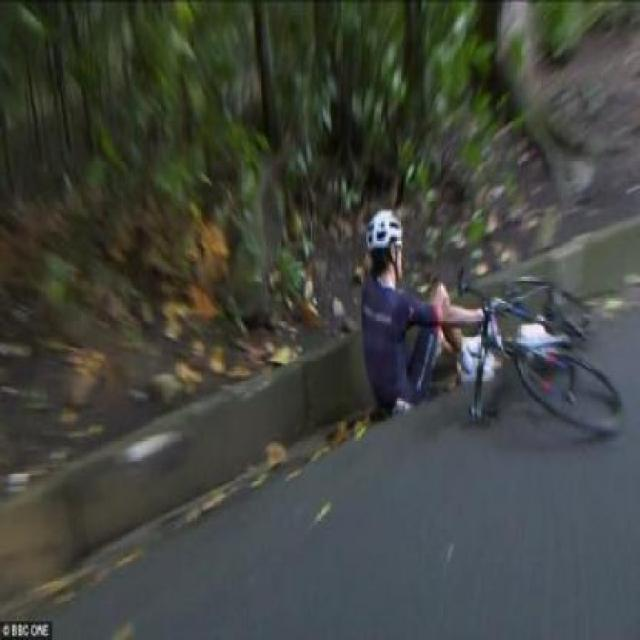fall: (351, 194, 504, 418)
